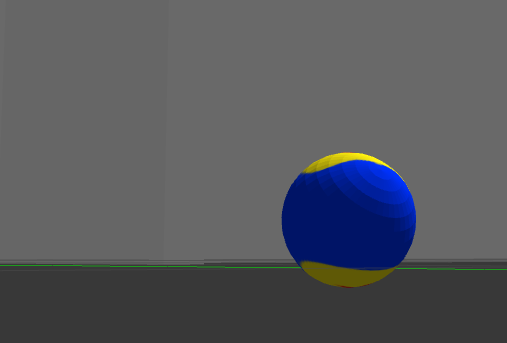toy story ball: (282, 152, 416, 289)
